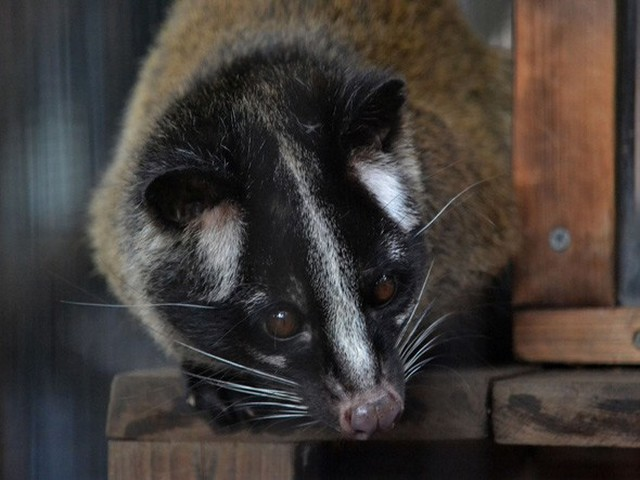civet: (59, 1, 511, 442)
